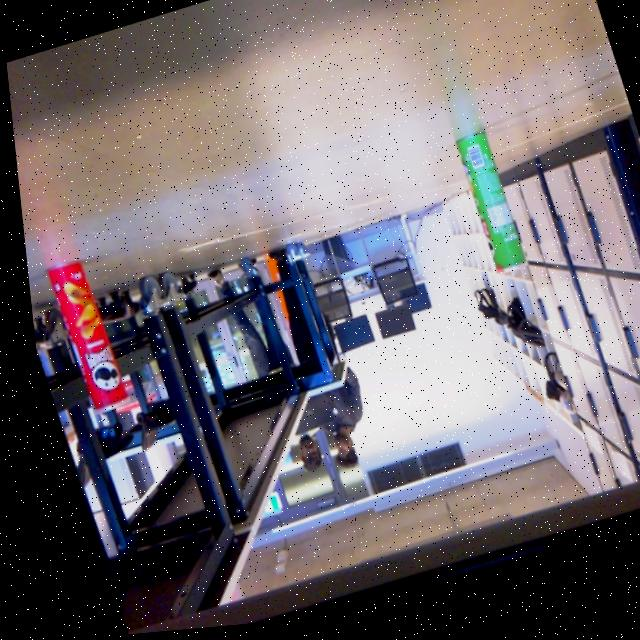greenpringles: (430, 116, 533, 296)
redpringles: (30, 239, 143, 427)
